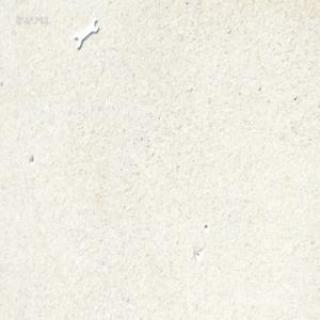Wrenchtrack_idkeyframe: (73, 18, 98, 51)
